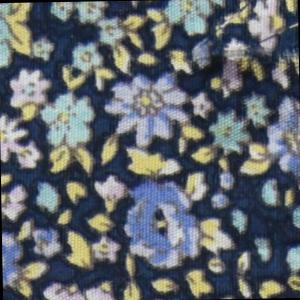Damage: (157, 1, 299, 87)
Wrinkle: (73, 227, 300, 293)
